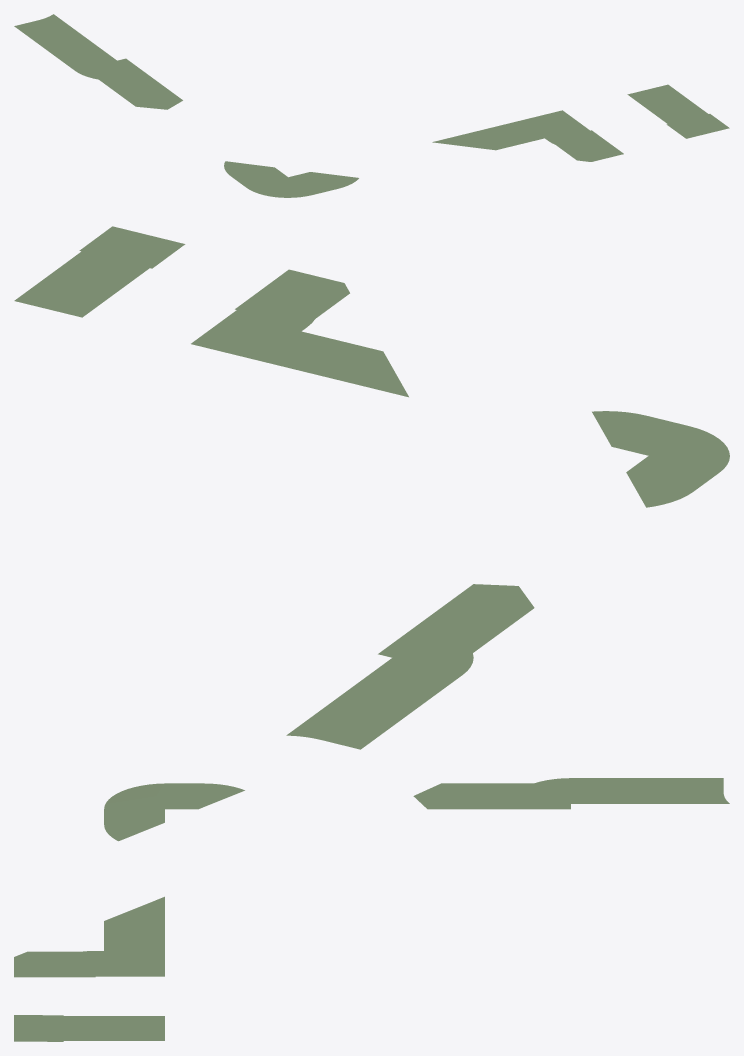
The model's file is SM_MPRR_CampusGreen_-2_-1.fbx.
The picture shows the model from 3 angles, top to bottom: view 1: azimuth 30°, elevation 25°; view 2: azimuth 150°, elevation 25°; view 3: azimuth 270°, elevation 25°; orthographic projection. The views are drawn at different scales.
Visible parts, largest first — view 1: SM_MPRR_CampusGreen_-2_-1; view 2: SM_MPRR_CampusGreen_-2_-1; view 3: SM_MPRR_CampusGreen_-2_-1.
Boxes of the visible parts, x1,y1,x2,y2 form: SM_MPRR_CampusGreen_-2_-1: (14,14,729,197); SM_MPRR_CampusGreen_-2_-1: (14,226,729,749); SM_MPRR_CampusGreen_-2_-1: (14,778,729,1041).
Size of the model in its own units: 4923 by 5646 by 3.75.
